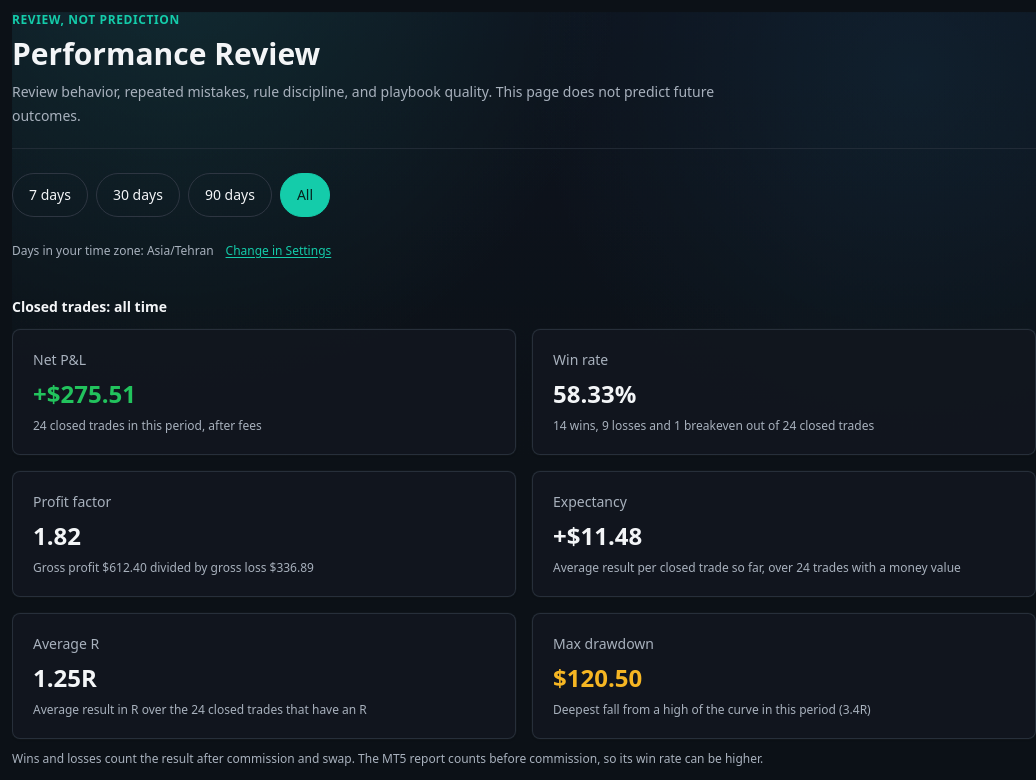
PerformanceScreen data and period › shows a short empty state for a period with no closed trade, with a way back to All
Expected: the button "All" is shown, [280,173,330,217]
Click the button "7 days".
click(50, 195)  # box [12,173,88,217]
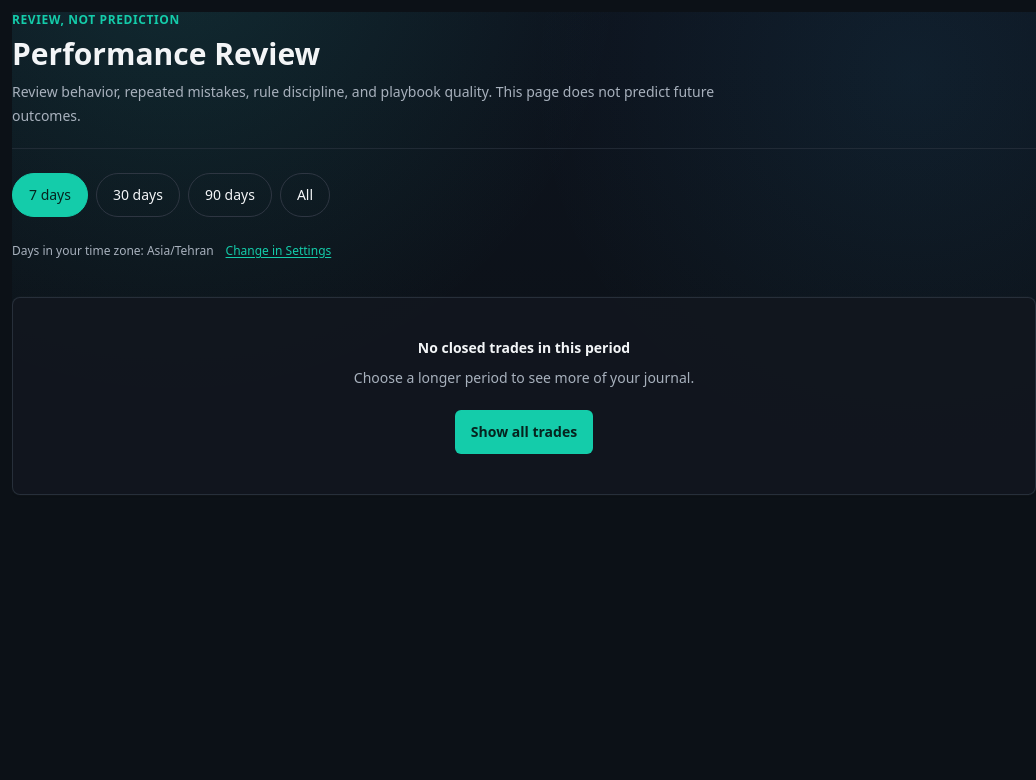
Now the text "No closed trades in this period" is shown, box [418,338,630,357]
Click the button "Show all trades".
click(524, 432)  # box [455,410,593,454]
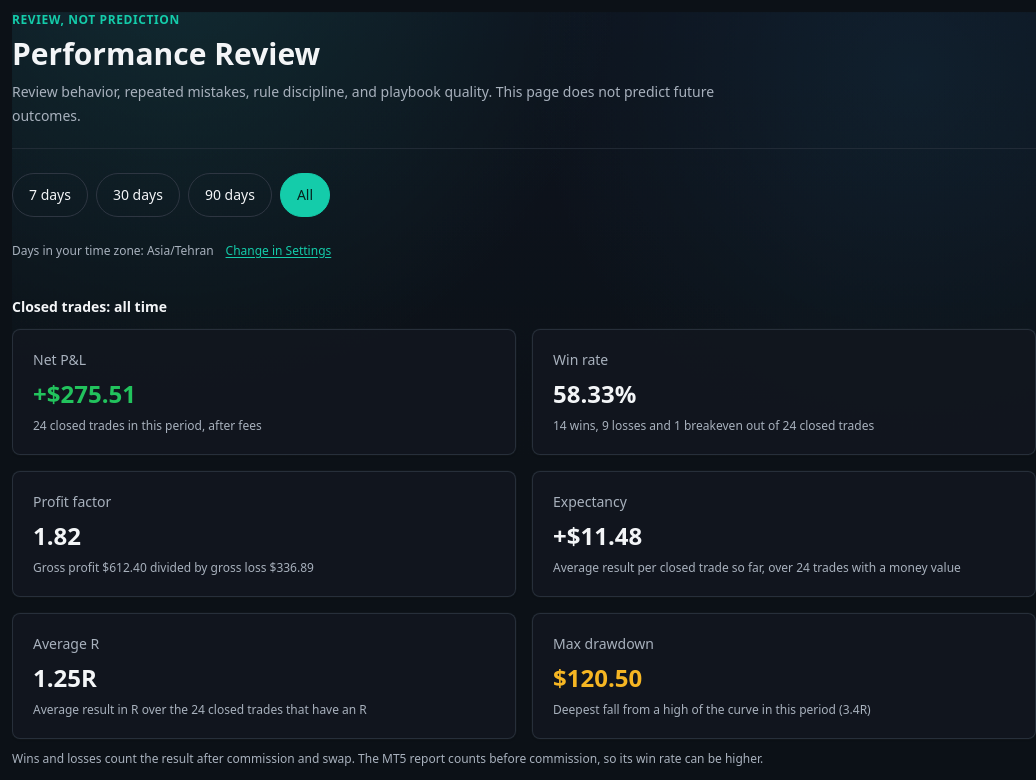
Now the text "No closed trades in this period" is gone
